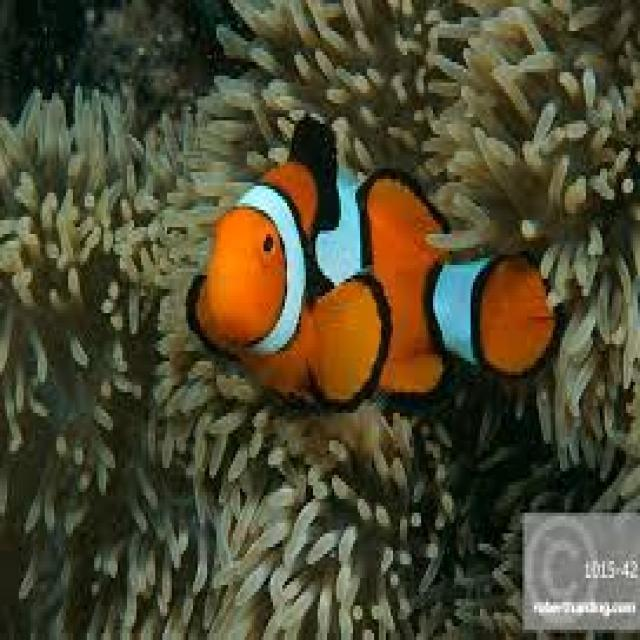ClownFish: (183, 118, 552, 407)
